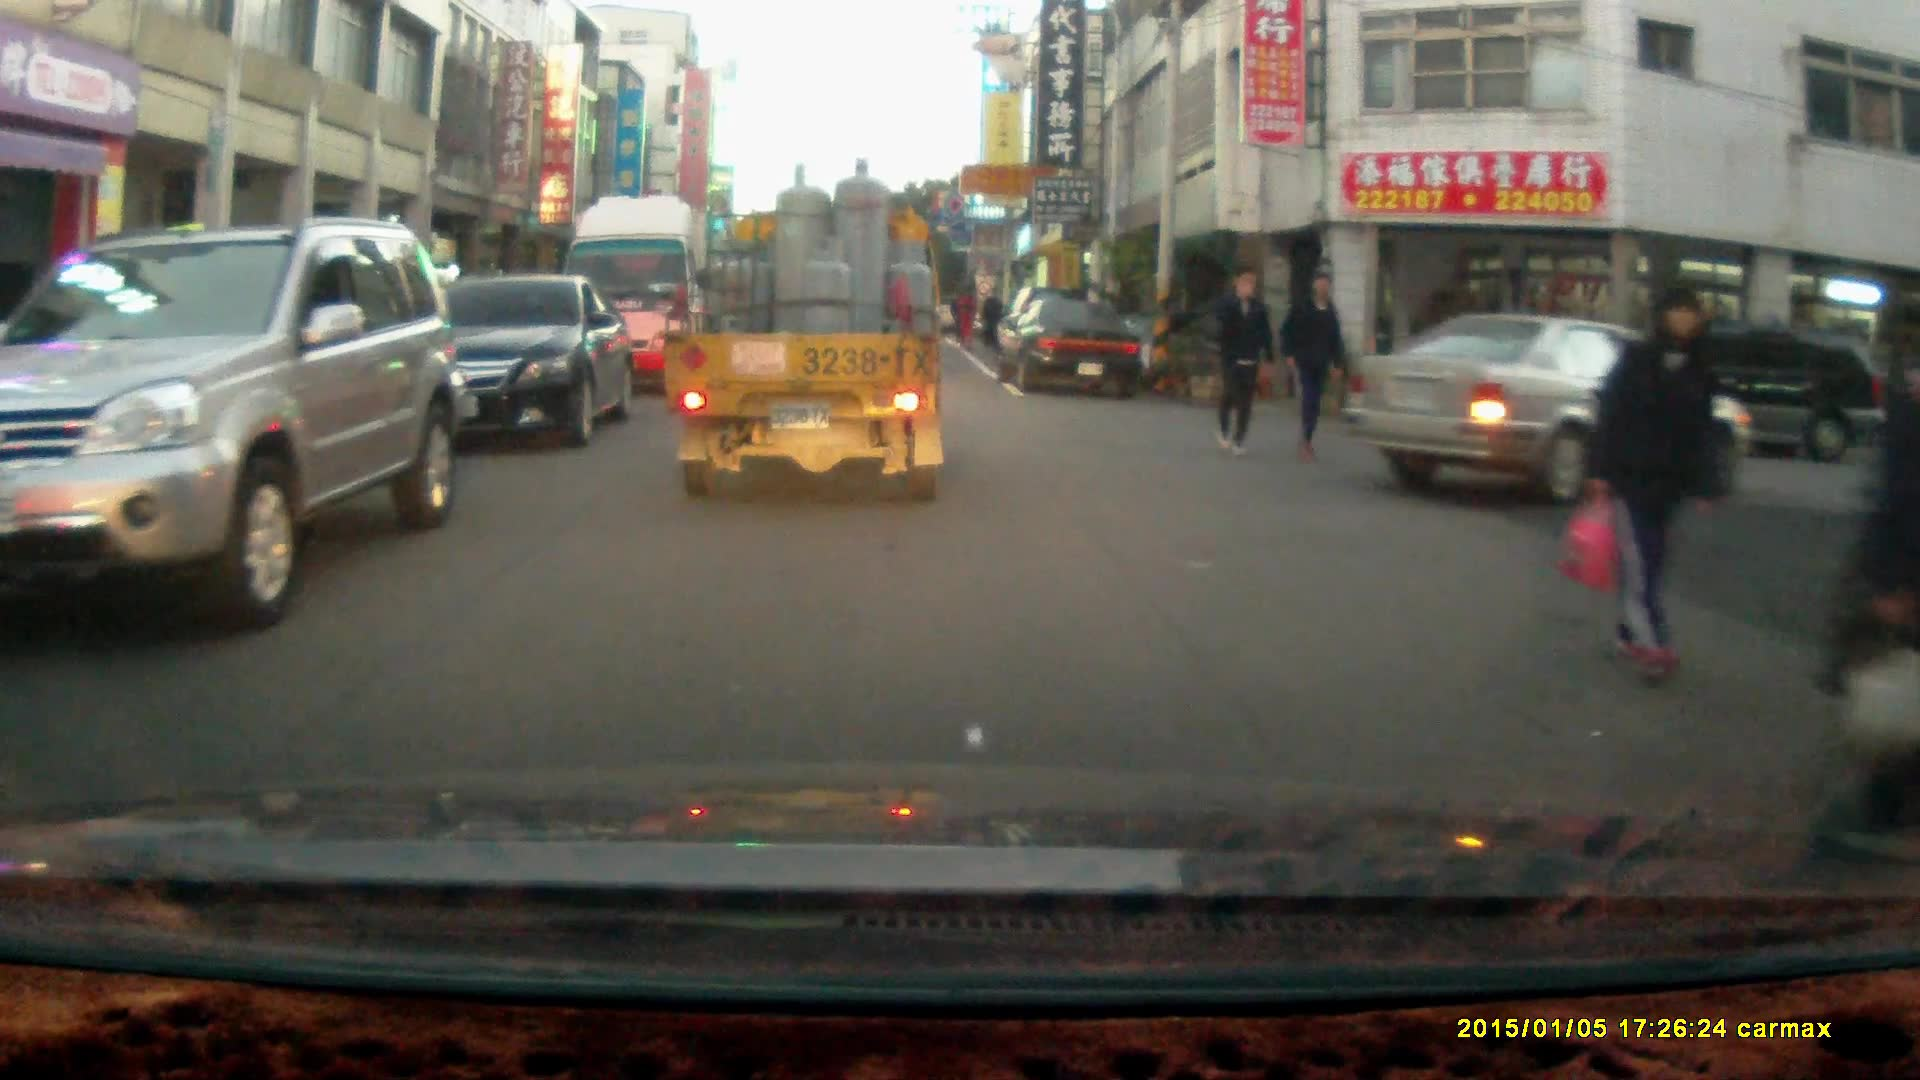pedestrian: (1592, 284, 1724, 682), (1278, 269, 1345, 463), (1209, 259, 1266, 454), (977, 279, 1004, 348)
vehicle: (1, 215, 459, 633), (663, 158, 947, 510), (1346, 311, 1754, 515), (370, 277, 635, 457), (559, 192, 734, 401), (990, 299, 1145, 400)
